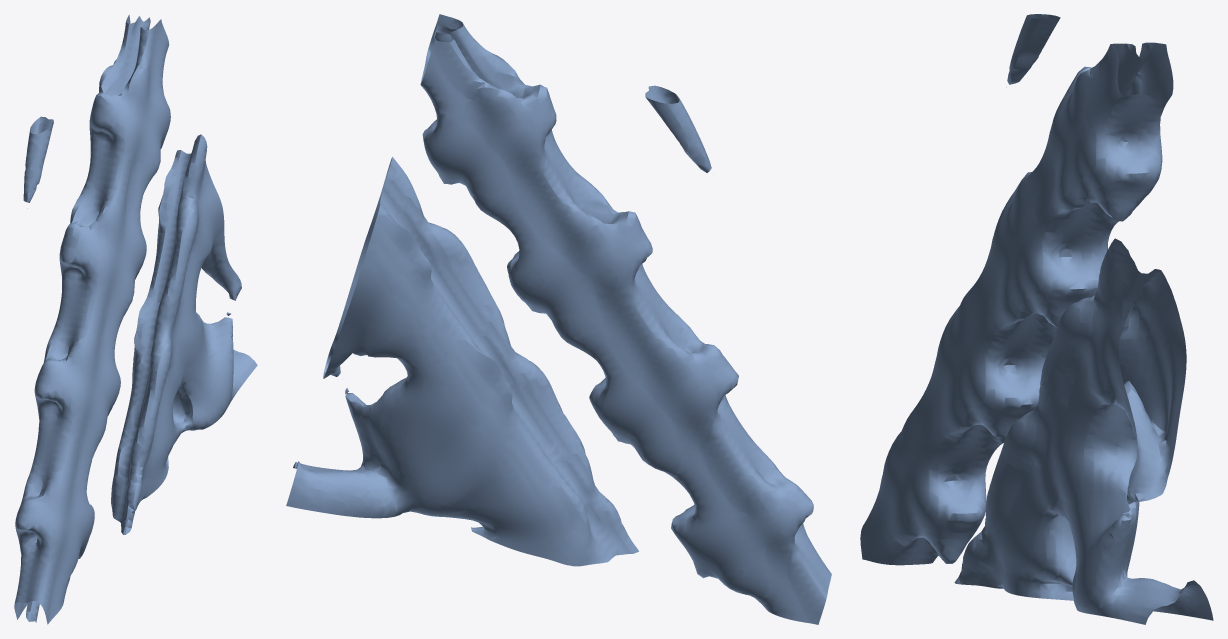
File: detail.mollified.von_mises.p90.glb
The picture shows the model from 3 angles, left to right: view 1: azimuth 30°, elevation 25°; view 2: azimuth 150°, elevation 25°; view 3: azimuth 270°, elevation 25°; orthographic projection. The views are drawn at different scales.
Parts seen in each view (by area): view 1: detail.mollified.von_mises.p90; view 2: detail.mollified.von_mises.p90; view 3: detail.mollified.von_mises.p90.
Part boxes in pixels (x1,y1,x2,y2): detail.mollified.von_mises.p90: (14,14,257,624); detail.mollified.von_mises.p90: (286,14,831,624); detail.mollified.von_mises.p90: (860,14,1213,624).
Size of the model in its own units: 1.41 by 1.98 by 0.9674.
